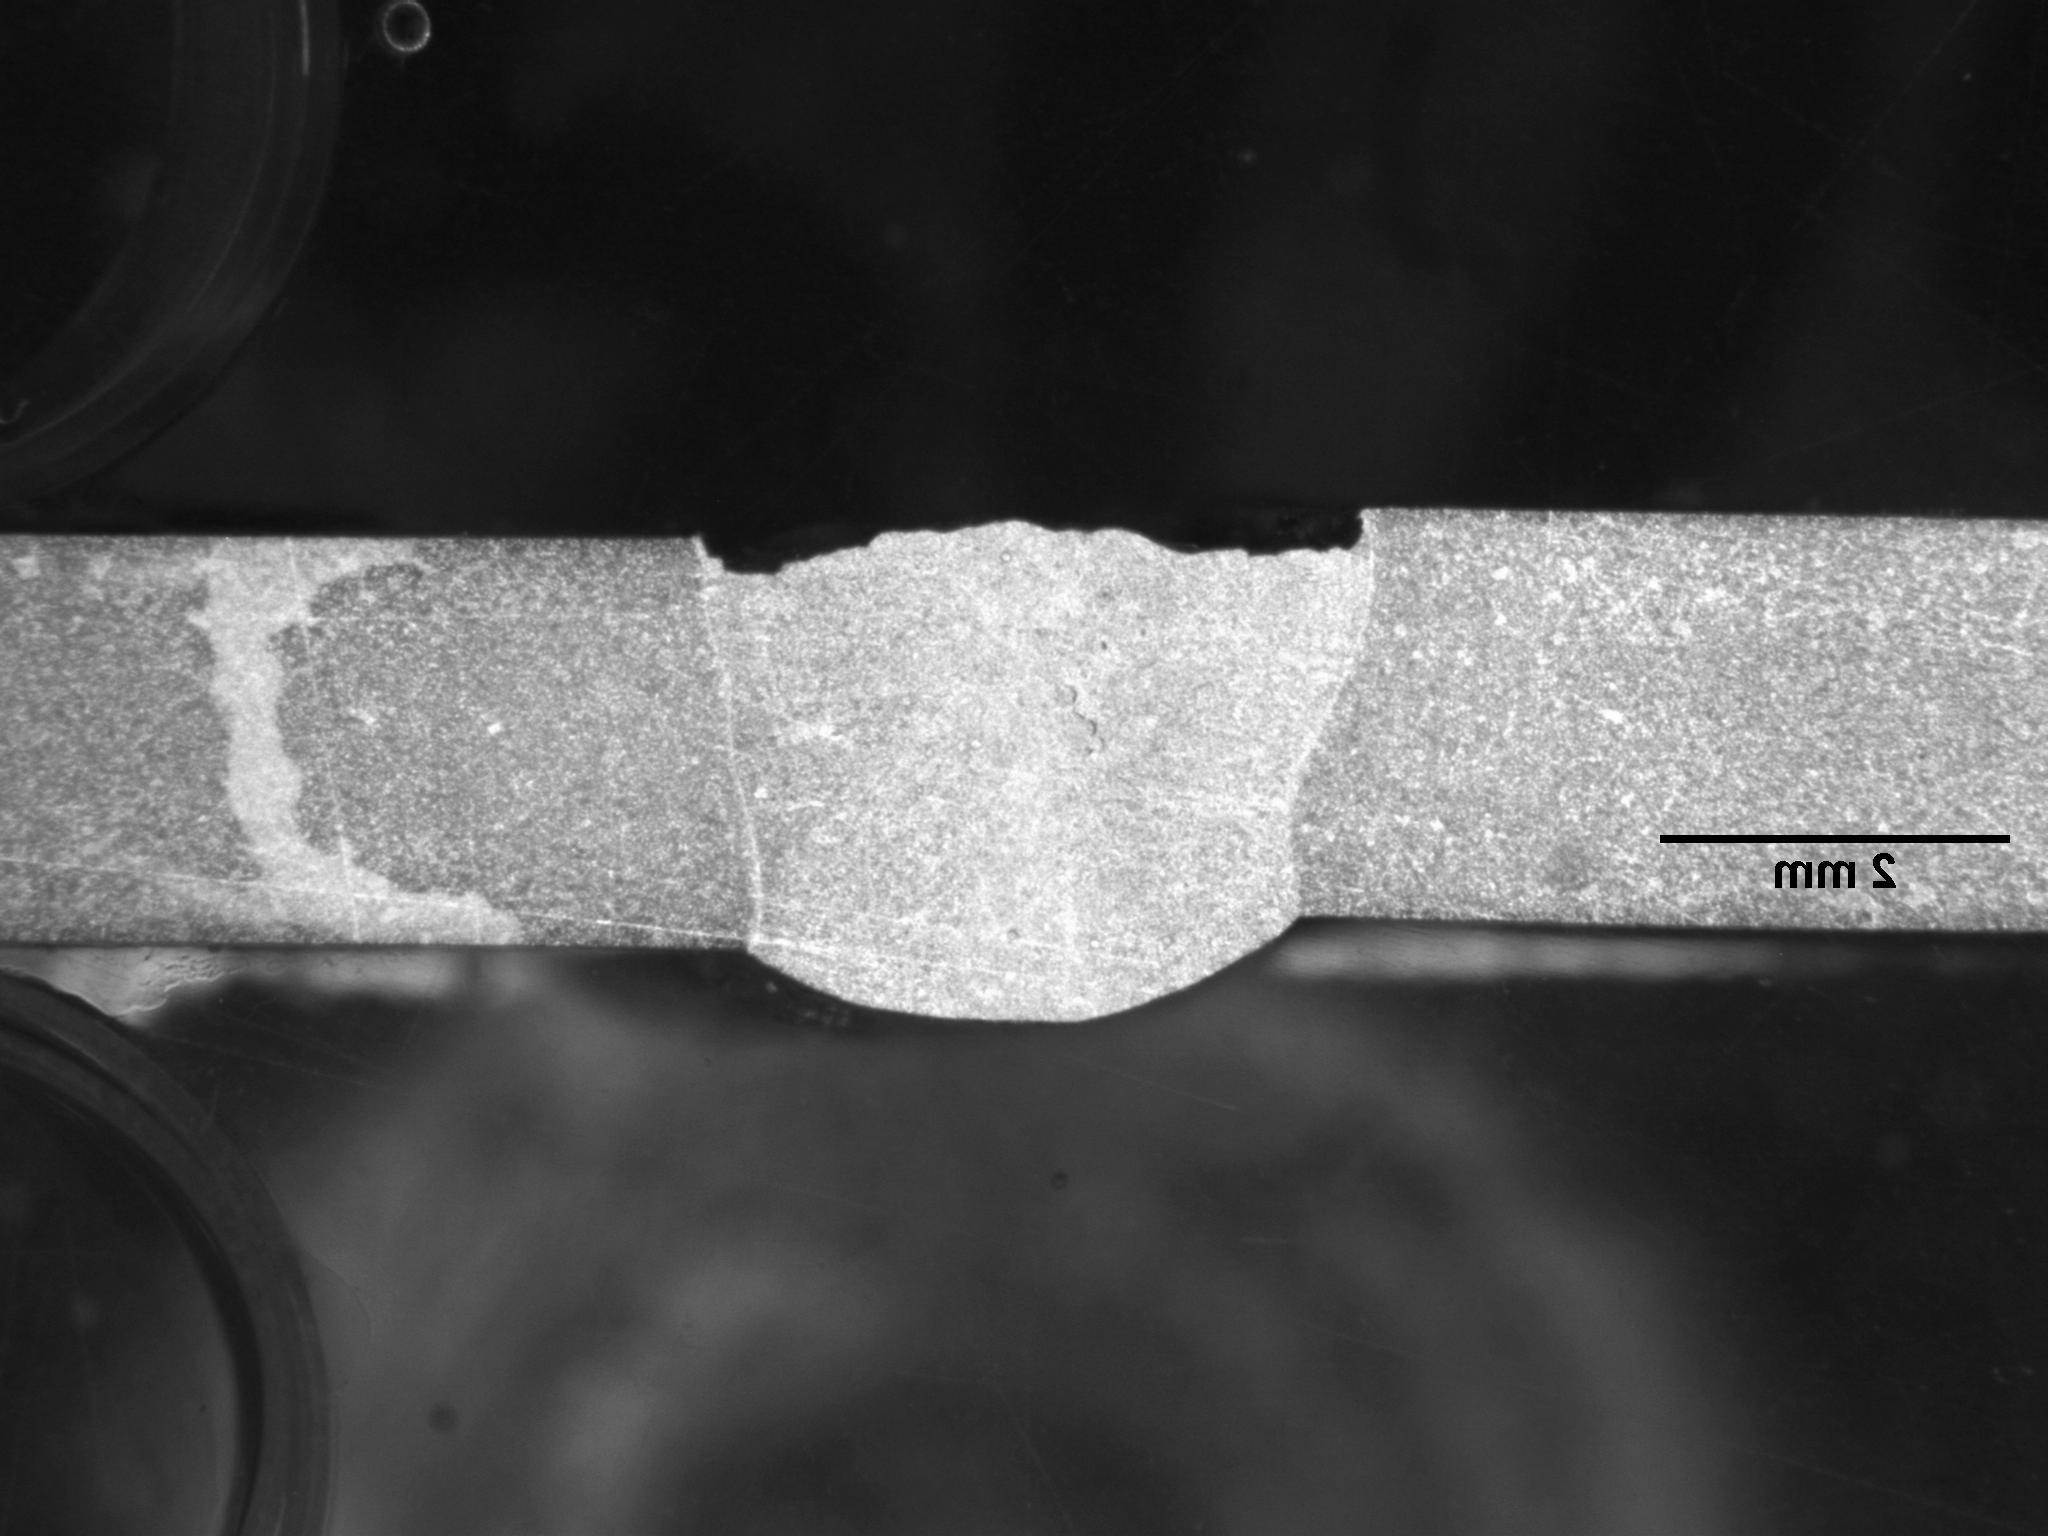Scale-bar: (1648, 824, 2021, 895)
